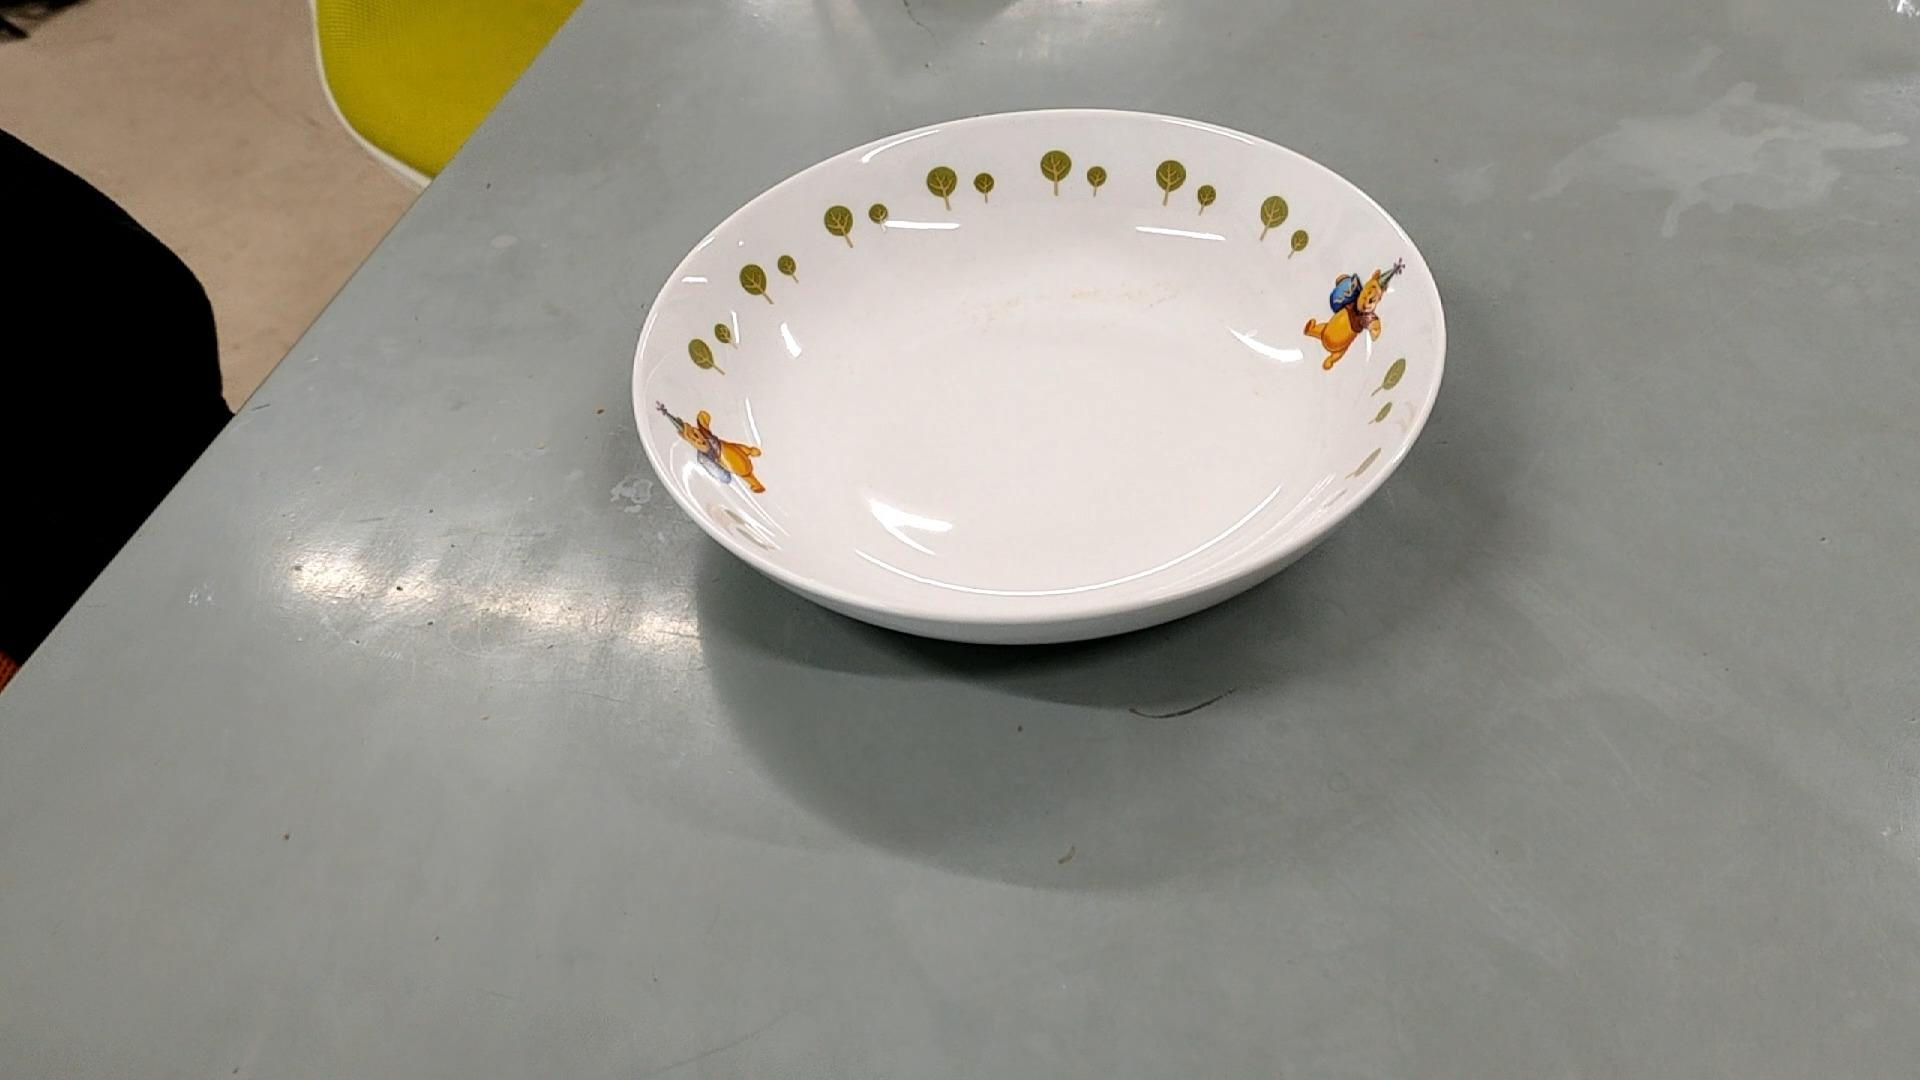plate: (638, 108, 1441, 648)
